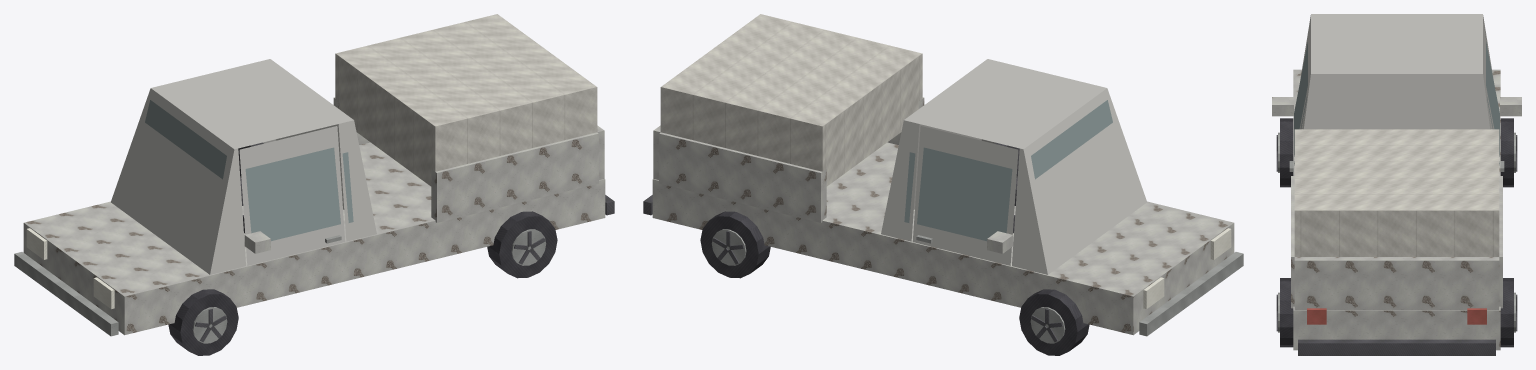
File: vehicle_canopy_pickup.glb
3 views of the same model, side by side, from view 1: azimuth 30°, elevation 25°; view 2: azimuth 150°, elevation 25°; view 3: azimuth 270°, elevation 25° (orthographic). The views are drawn at different scales.
Parts seen in each view (by area): view 1: body_panel.005, door_mirror.011, hub.023, hub.021; view 2: body_panel.005, door_mirror.010, hub.022, hub.020; view 3: body_panel.005, door_mirror.010, door_mirror.011, hub.020, hub.021, hub.022, hub.023.
Part boxes in pixels (left/top/right/bottom): body_panel.005: left=14, top=14, right=614, bottom=336; door_mirror.011: left=239, top=126, right=345, bottom=265; hub.023: left=487, top=211, right=557, bottom=278; hub.021: left=168, top=289, right=238, bottom=355; body_panel.005: left=643, top=14, right=1243, bottom=336; door_mirror.010: left=912, top=126, right=1018, bottom=265; hub.022: left=700, top=211, right=770, bottom=278; hub.020: left=1019, top=289, right=1089, bottom=355; body_panel.005: left=1291, top=14, right=1502, bottom=355; door_mirror.010: left=1483, top=19, right=1521, bottom=171; door_mirror.011: left=1272, top=19, right=1310, bottom=171; hub.020: left=1500, top=118, right=1517, bottom=187; hub.021: left=1276, top=118, right=1293, bottom=187; hub.022: left=1500, top=278, right=1517, bottom=347; hub.023: left=1276, top=278, right=1293, bottom=347.
Bounding box in the file's own units: 5.18 × 1.82 × 2.17.
8 materials, 8 textured.
